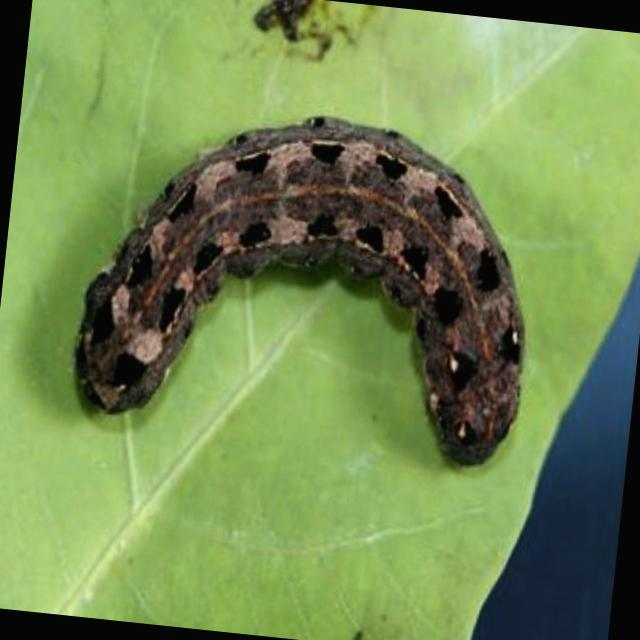Tobacco cutworm: (27, 65, 592, 565)
